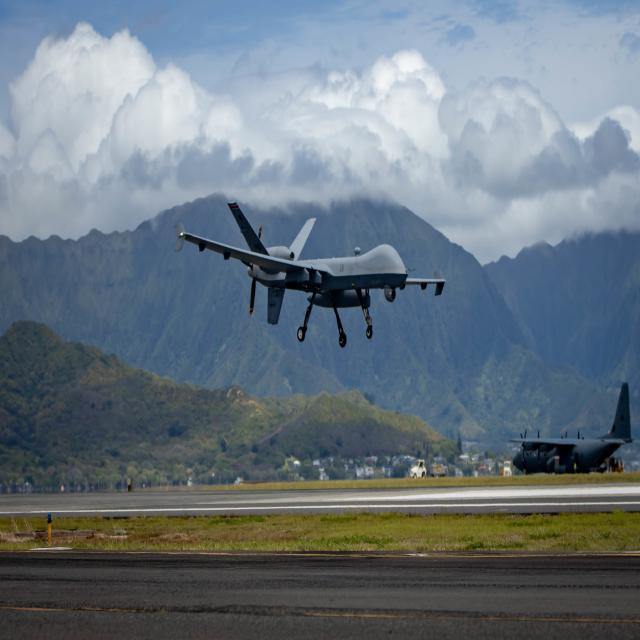MQ9: (159, 169, 469, 371)
